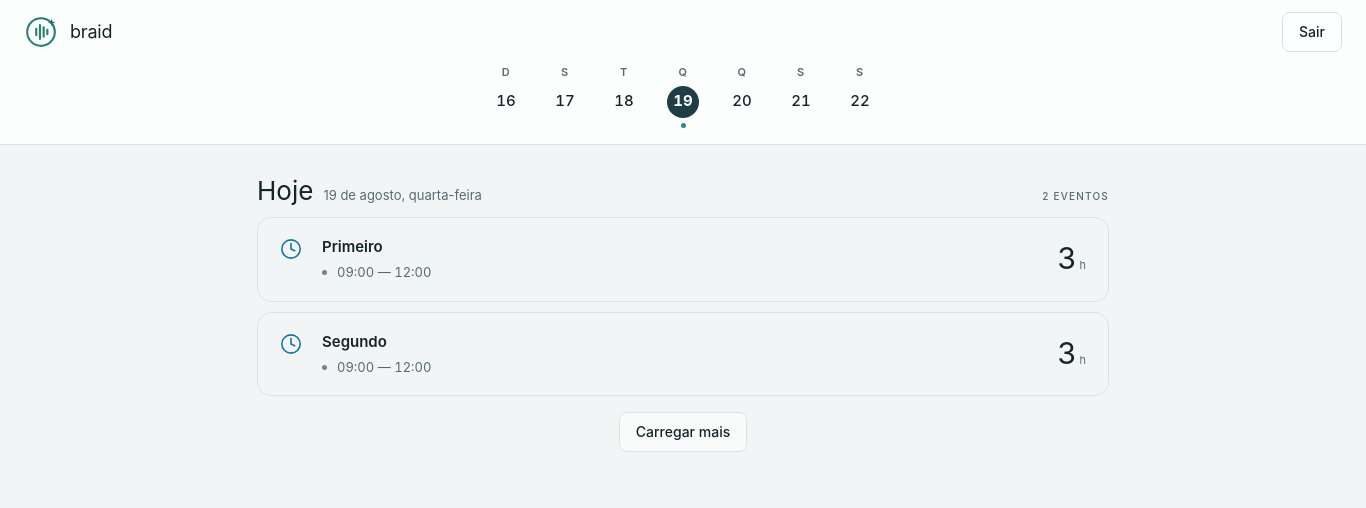
it: adds the second page to the first without repeating what came in both
The image size is (1366, 508).
Click the button "Carregar mais".
click(683, 432)  # box [619,412,747,452]
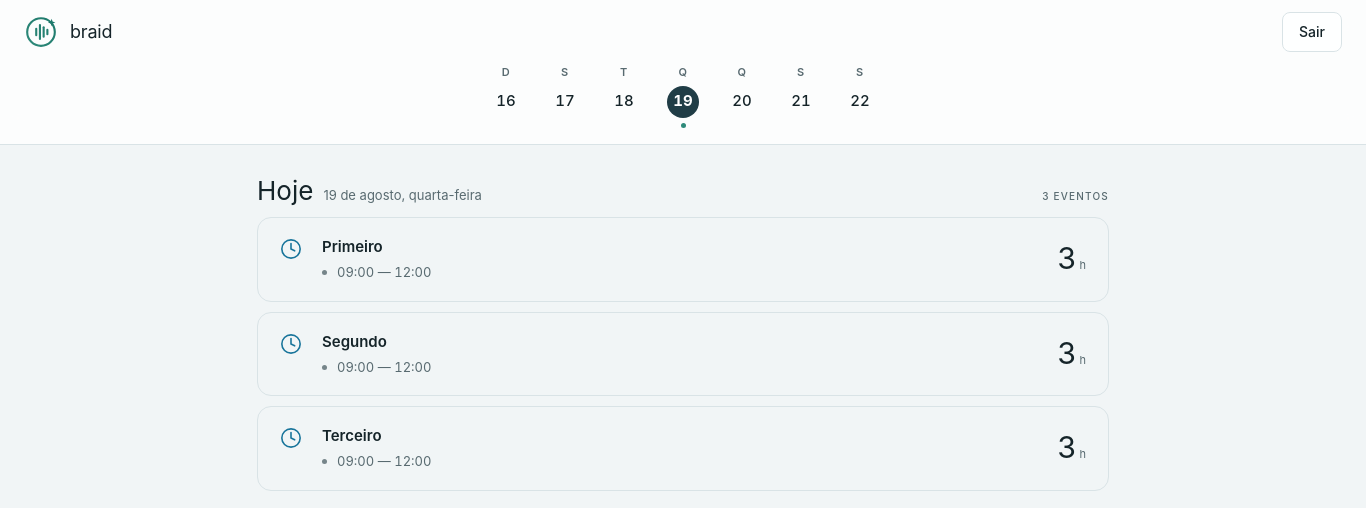
Expected: the number of headings "Segundo" is 1, [322,331,1037,352]
Result: the heading "Terceiro" is shown at [322,425,1037,446]
